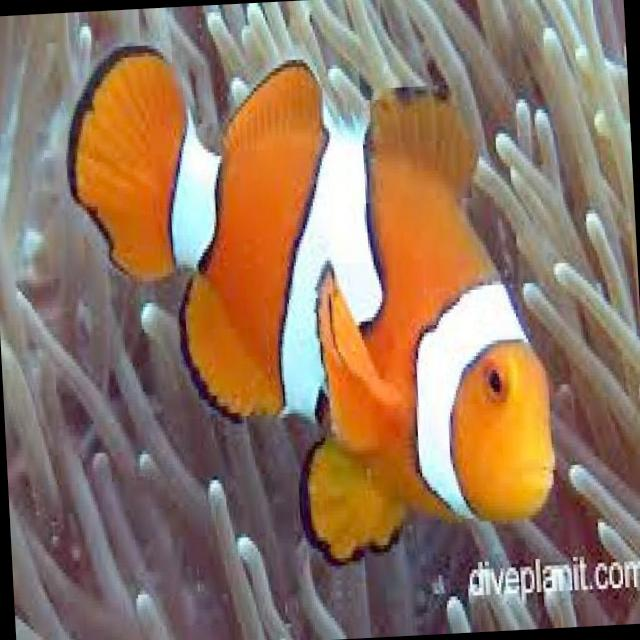ClownFish: (58, 23, 560, 574)
